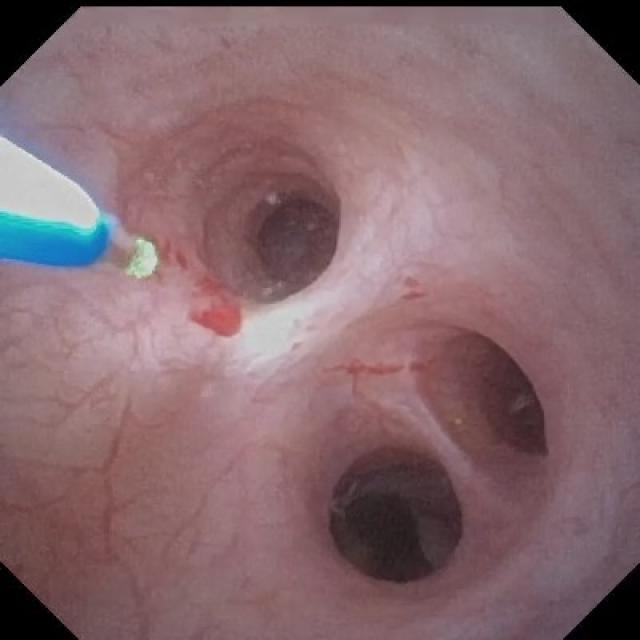laser-fibre: (106, 229, 157, 277)
stone-new: (341, 491, 432, 581)
